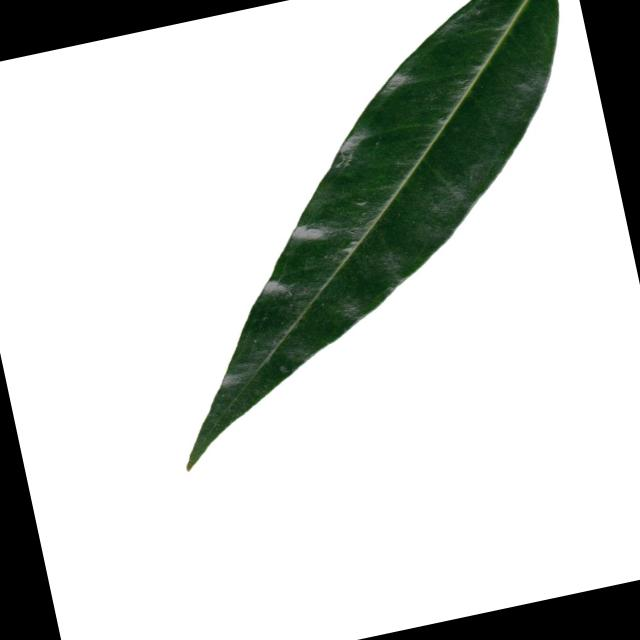Medicinal-Rose Apple: (91, 0, 640, 473)
